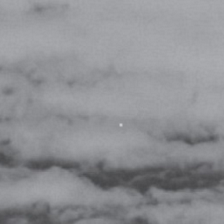Target: (117, 122, 123, 128)
